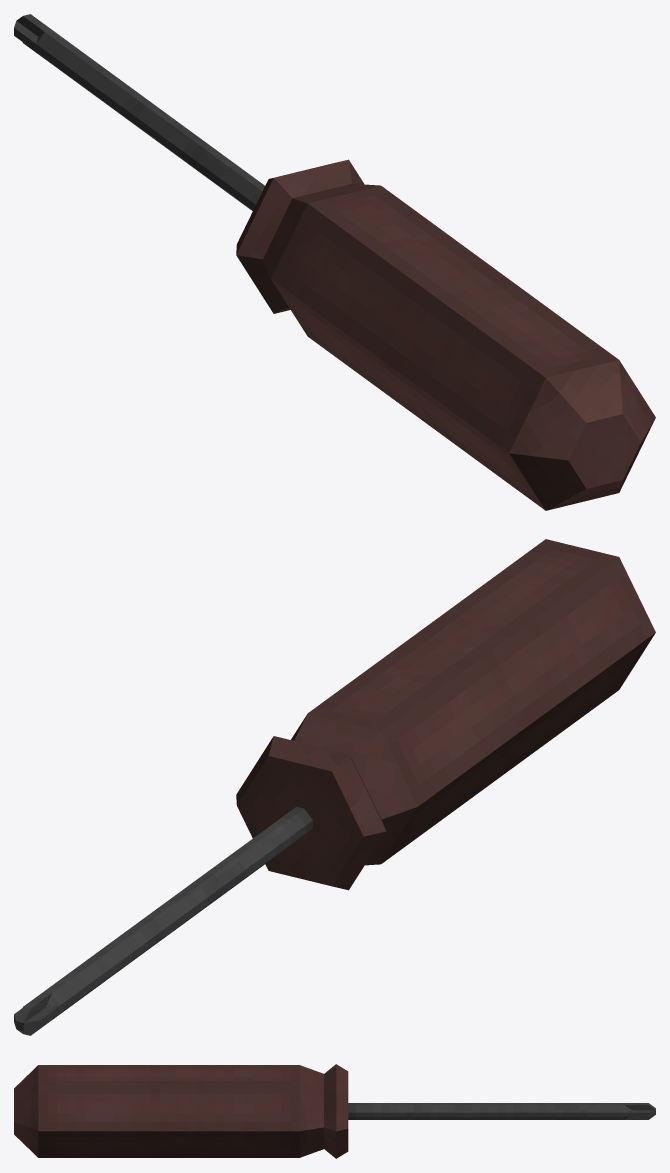
File: screwdriver_mp_2.glb
The picture shows the model from 3 angles, top to bottom: view 1: azimuth 30°, elevation 25°; view 2: azimuth 150°, elevation 25°; view 3: azimuth 270°, elevation 25°; orthographic projection. The views are drawn at different scales.
Visible parts, largest first — view 1: screwdriver_mp_2; view 2: screwdriver_mp_2; view 3: screwdriver_mp_2.
Part boxes in pixels (x1,y1,x2,y2): screwdriver_mp_2: [14, 14, 655, 510]; screwdriver_mp_2: [14, 539, 655, 1035]; screwdriver_mp_2: [14, 1064, 655, 1158].
Bounding box in the file's own units: 0.0393 × 0.034 × 0.265.
Materials: 1 (1 with a texture image).
